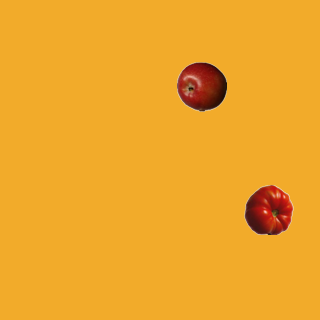Apple Braeburn: (176, 61, 226, 111)
Tomato 3: (243, 184, 293, 234)
